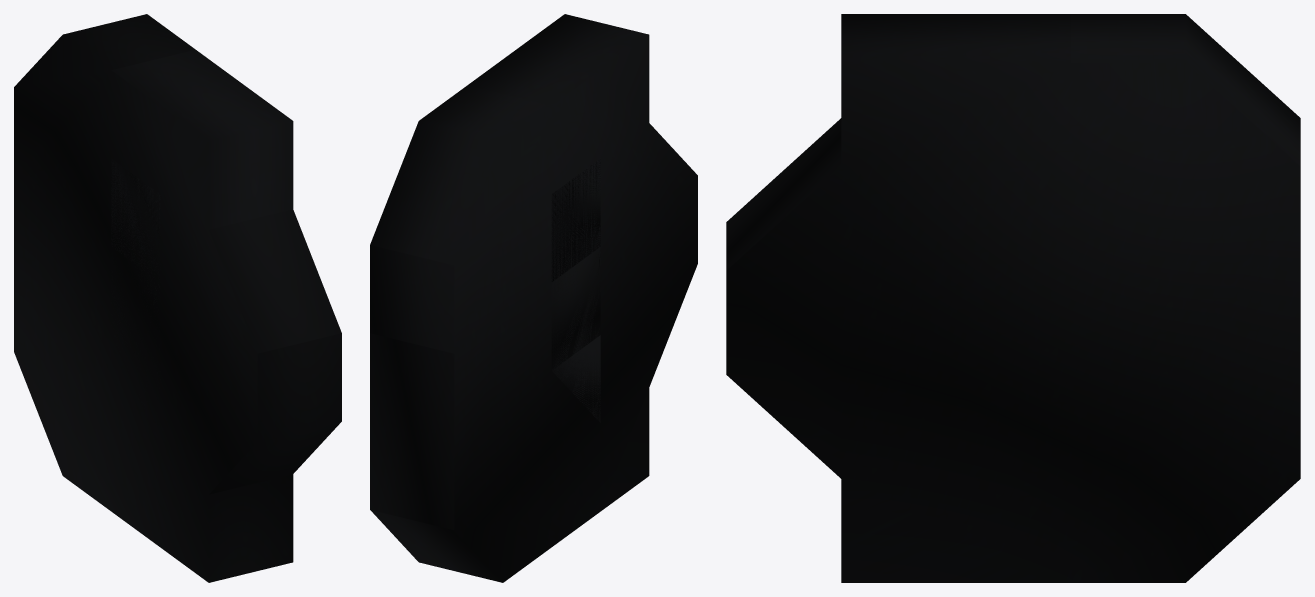
3 views of the same model, side by side, from view 1: azimuth 30°, elevation 25°; view 2: azimuth 150°, elevation 25°; view 3: azimuth 270°, elevation 25° (orthographic). The views are drawn at different scales.
Bounding box in the file's own units: 0.24 × 1.2 × 1.2.
1 material, 1 textured.
